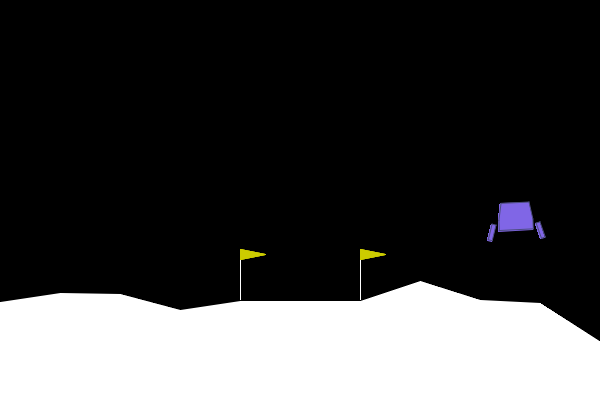lander: (484, 200, 546, 242)
